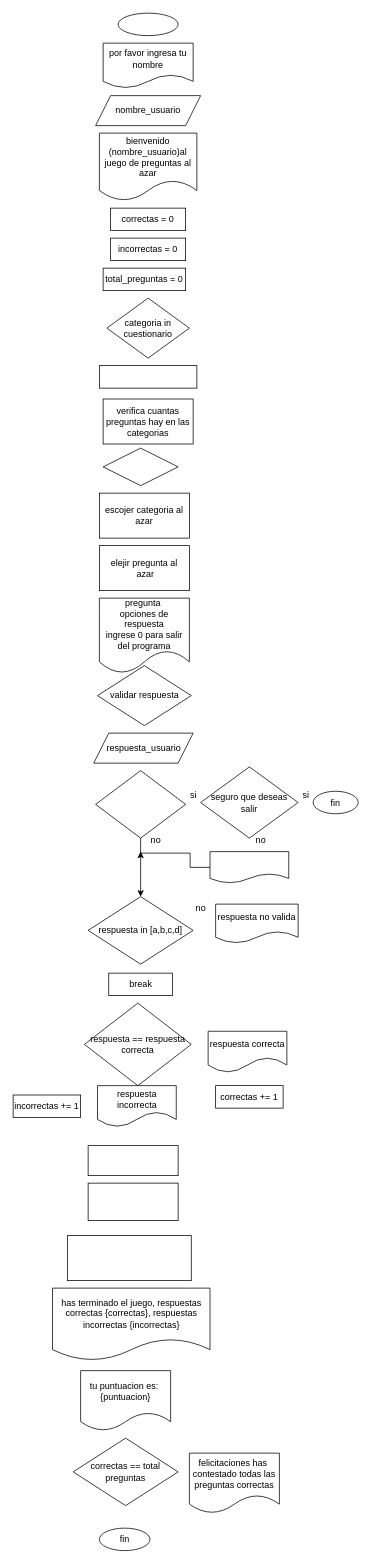
This 371x1564 diagram has some shape labels left out. Here are the shapes that lost their labels. From the top down, the centre of each, then its label:
At [147,24]: "inicio".
At [148,376]: "total_preguntas +=".
At [140,466]: "cuestionario".
At [140,804]: "respuesta_usuario == o".
At [249,867]: "continuemos".
At [132,1160]: "eliminar la pregunta ya realizada".
At [132,1201]: "si la categoria no tiene preguntas, eliminarla".
At [129,1258]: "puntuacion = (correctas / total_preguntas) * 100".
